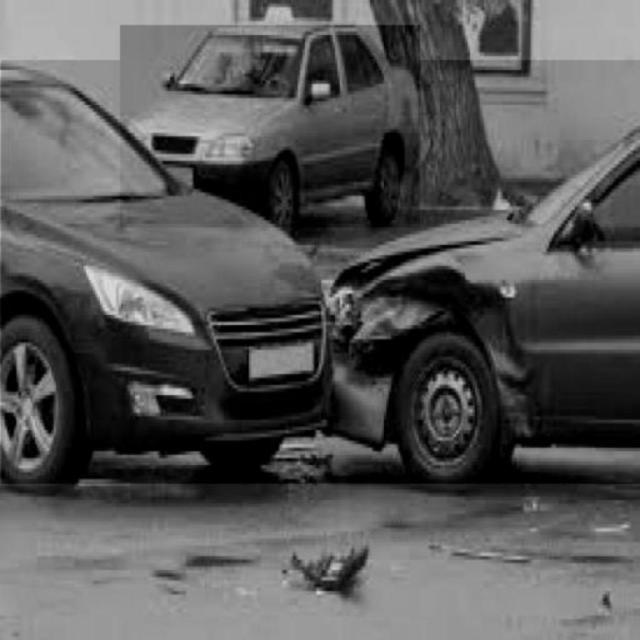accident: (1, 60, 639, 483)
vehicle: (120, 26, 420, 228)
